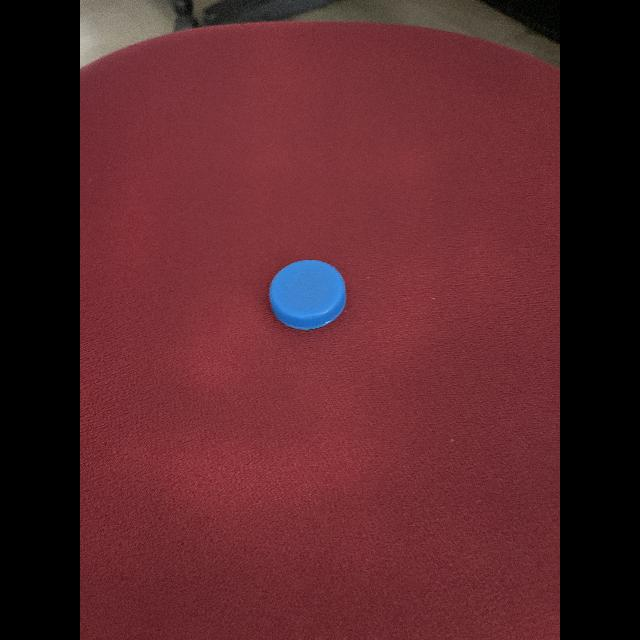plastic_bottle_cap: (261, 252, 351, 336)
